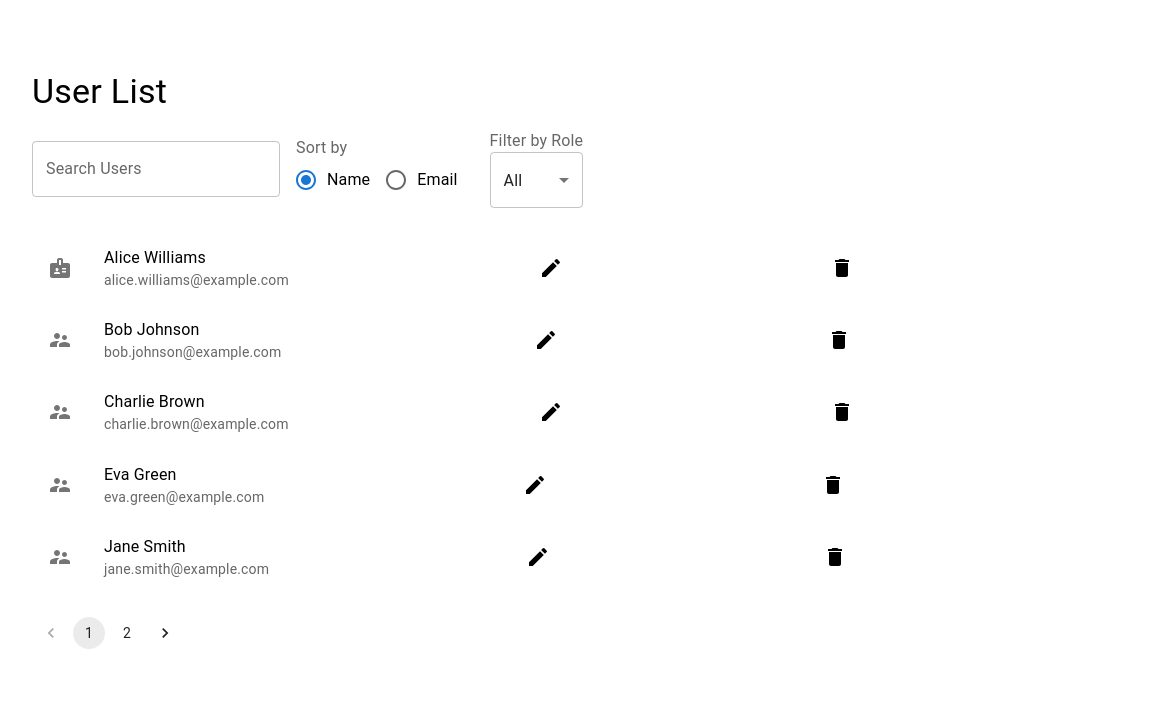
Test: UserEmployeeListSchwer Component › shows snackbar message on successful user deletion
// Click the delete button for a user
Click the button named "delete-".
click(842, 268)  # box [830,256,854,280]
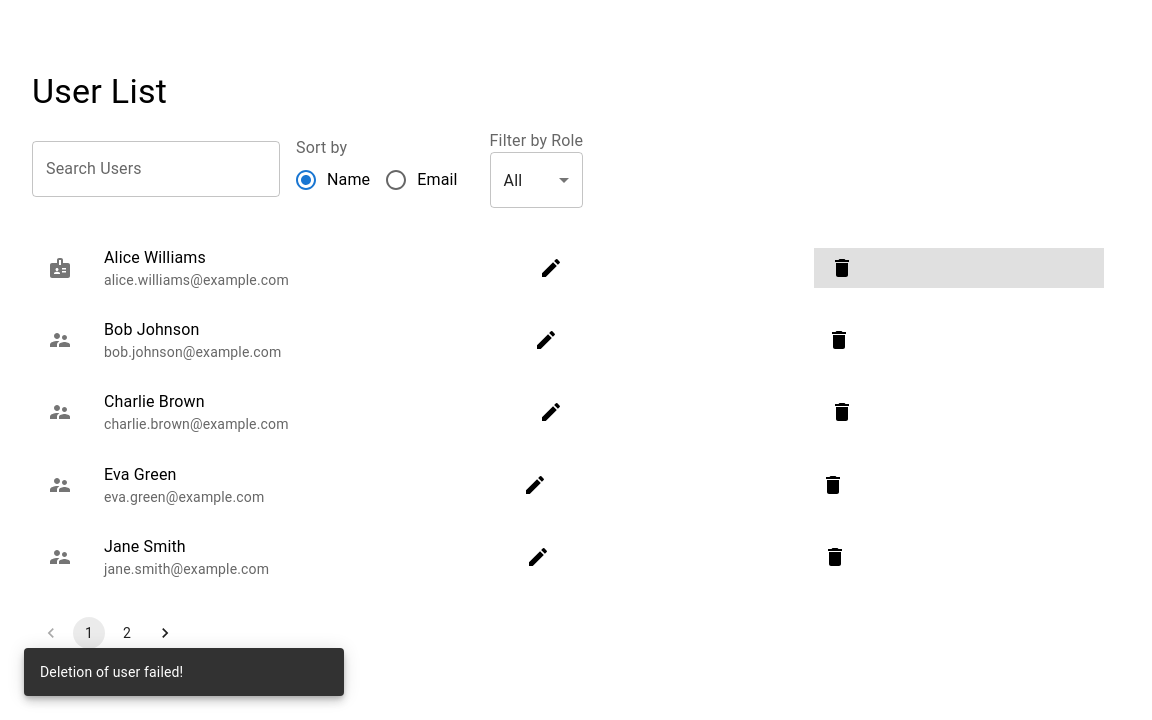
Check: the text "Deletion of user failed!" is shown, box [40,664,183,680]
